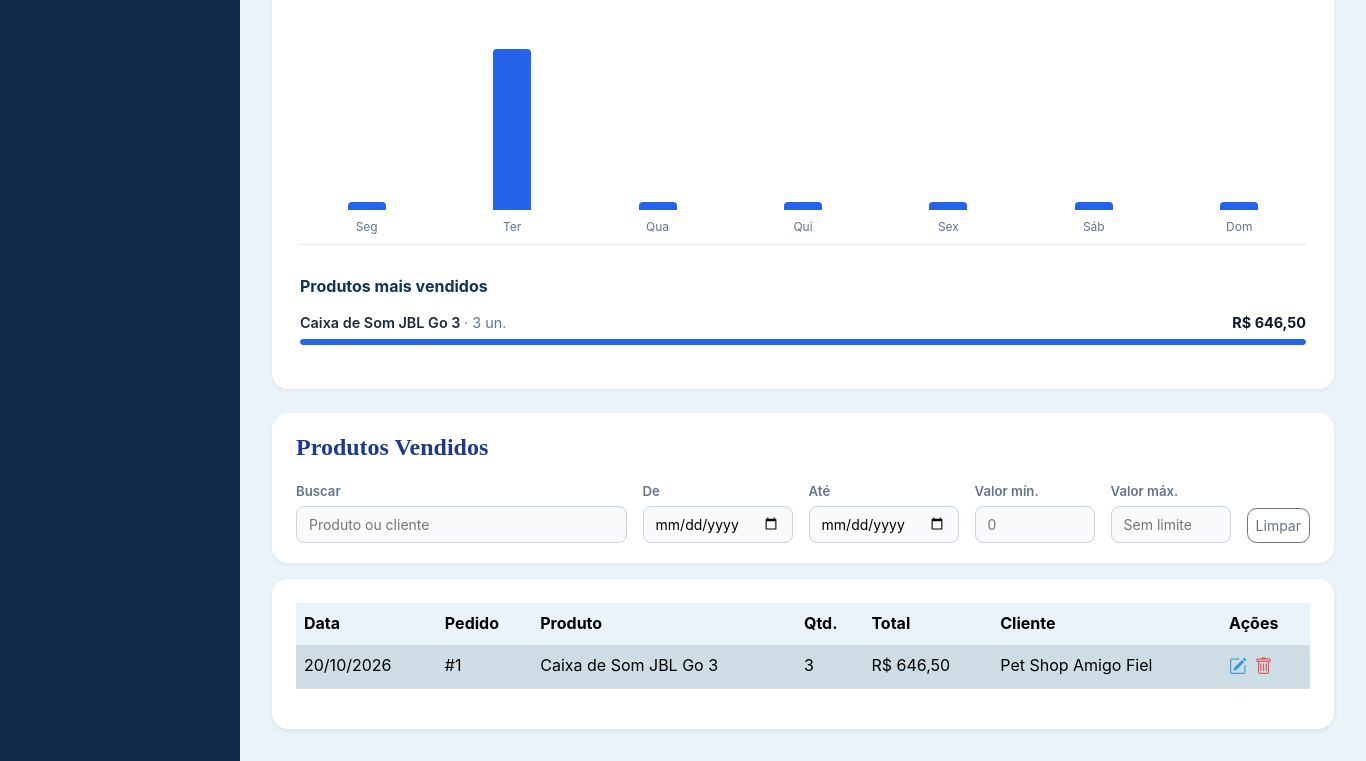
Test: Page Vendas › deve filtrar a listagem ao digitar no campo Buscar
(page scrolled)
Expected: the text "Caixa de Som JBL Go 3" is shown, x1=300 y1=314 x2=460 y2=331
Type "Inexistente" into the field with placeholder "Produto ou cliente" at (461, 524), box x1=296 y1=506 x2=627 y2=543
(page scrolled)
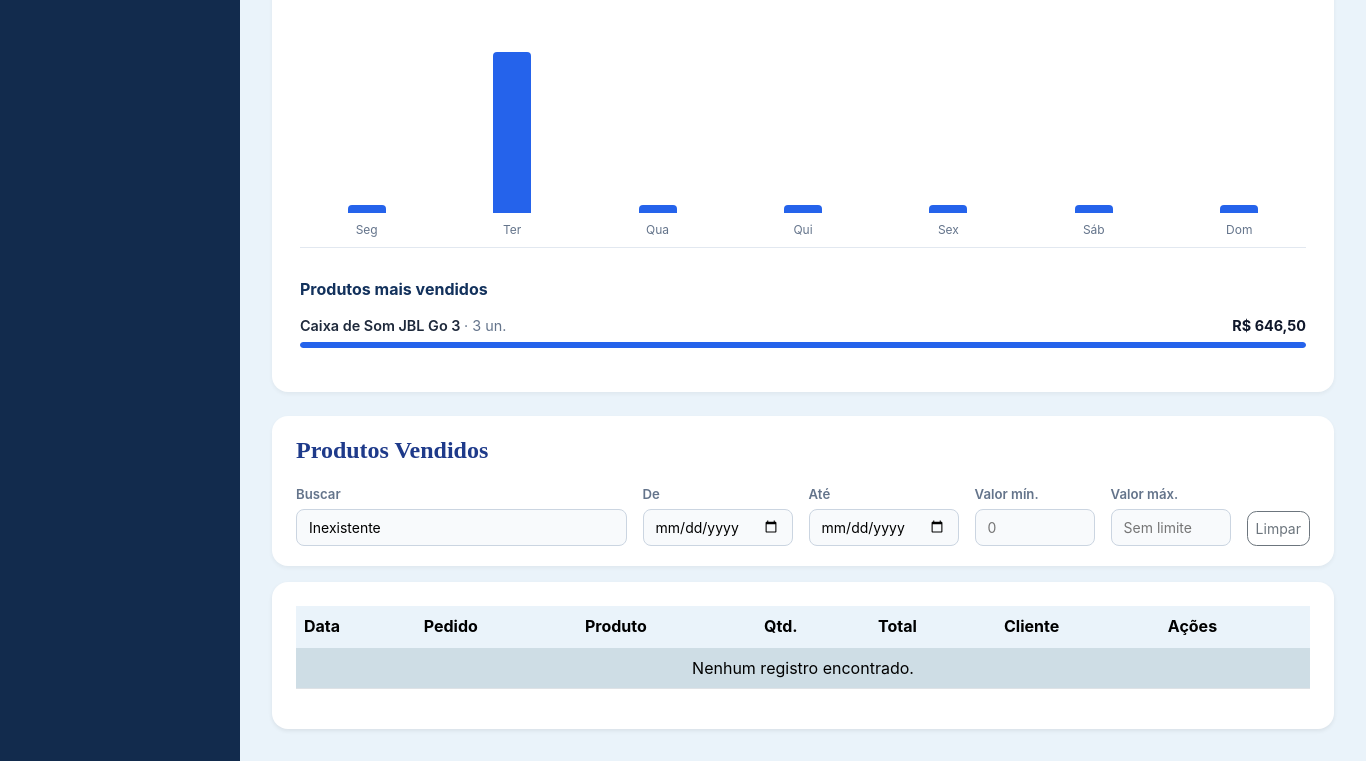
Expected: the text "Nenhum registro encontrado." is shown, x1=296 y1=647 x2=1310 y2=688
